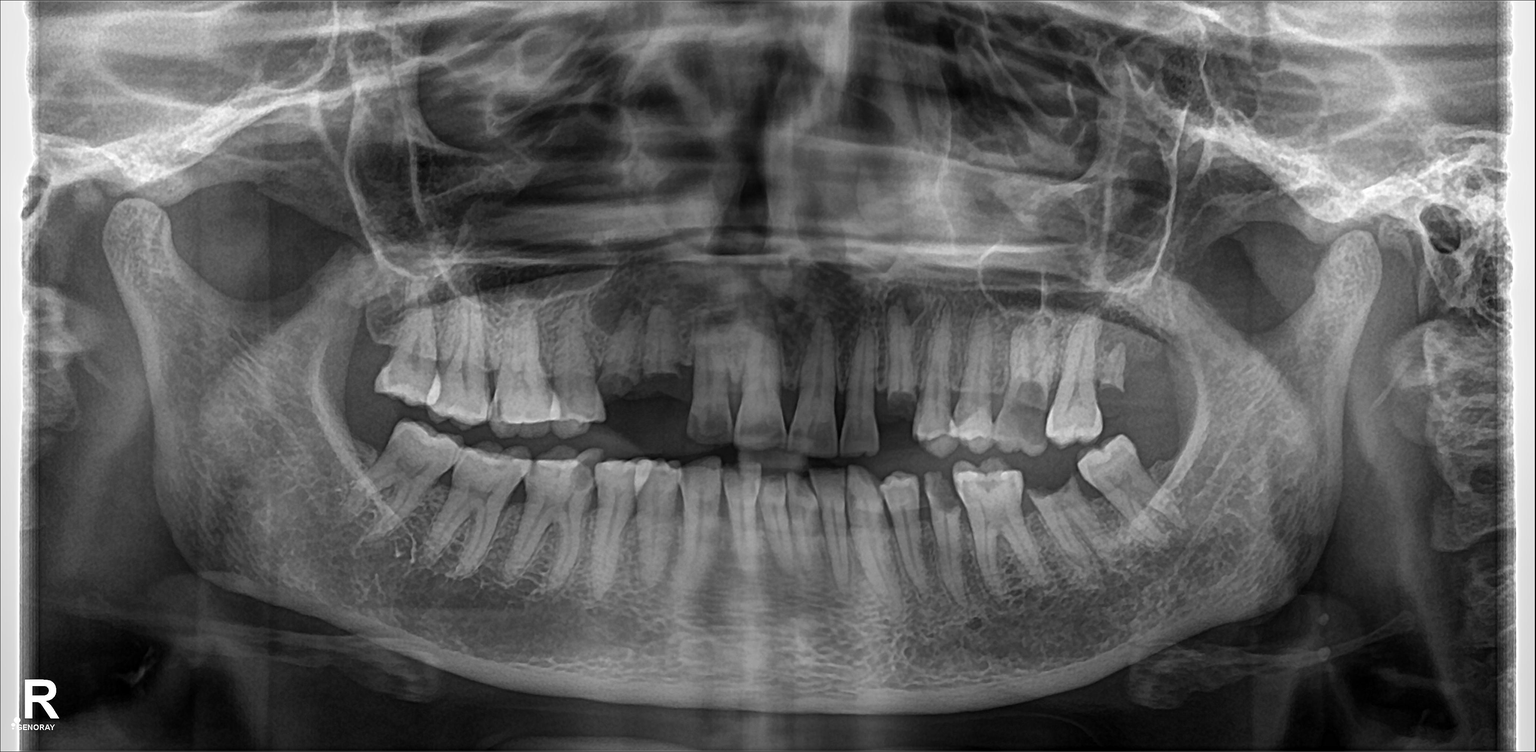Dental Caries: (1004, 376, 1047, 444), (924, 471, 958, 509), (685, 411, 726, 438), (877, 389, 922, 411)
Missing Tooth: (324, 411, 374, 505), (337, 298, 386, 393), (1147, 432, 1201, 517)
Retained Root: (1030, 458, 1097, 579), (872, 316, 925, 439), (1095, 322, 1159, 405), (602, 307, 644, 398), (654, 307, 690, 395)
